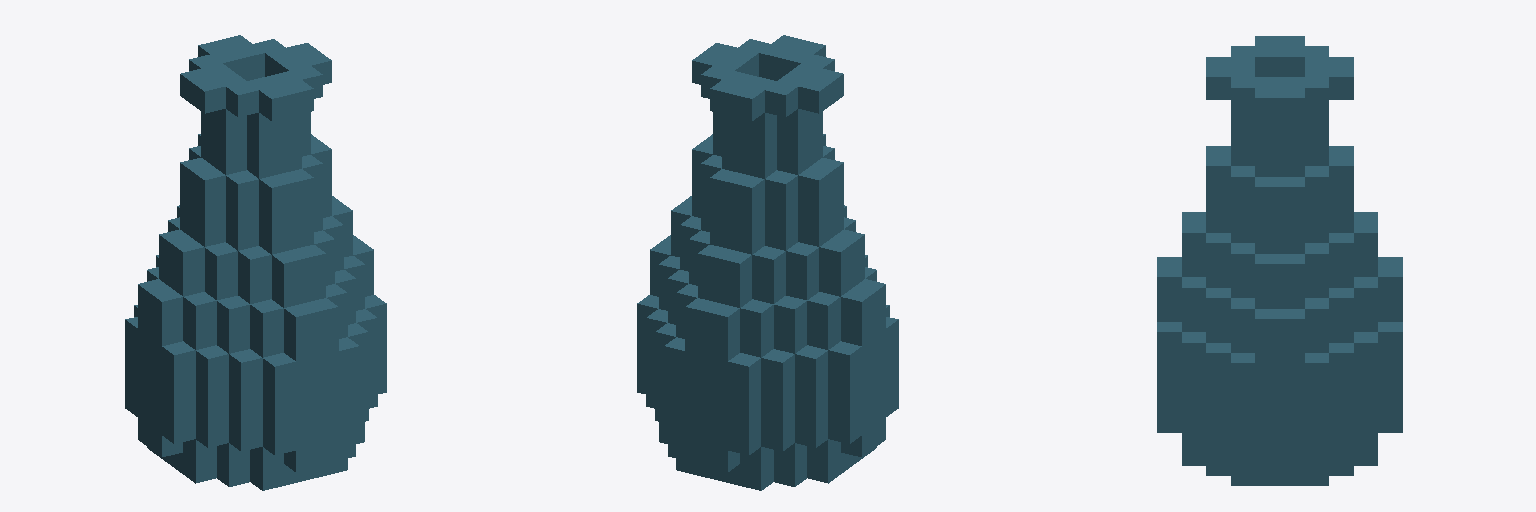
3 renders of one model, left to right at view 1: azimuth 30°, elevation 25°; view 2: azimuth 150°, elevation 25°; view 3: azimuth 270°, elevation 25°, orthographic.
Parts seen in each view (by area): view 1: 4; view 2: 4; view 3: 4.
Boxes of the visible parts, x1=… form: 4: x1=125, y1=35, x2=386, y2=490; 4: x1=637, y1=35, x2=898, y2=490; 4: x1=1157, y1=36, x2=1402, y2=485.
Bounding box in the file's own units: 1 × 1.7 × 1.
Materials: 1 (1 with a texture image).